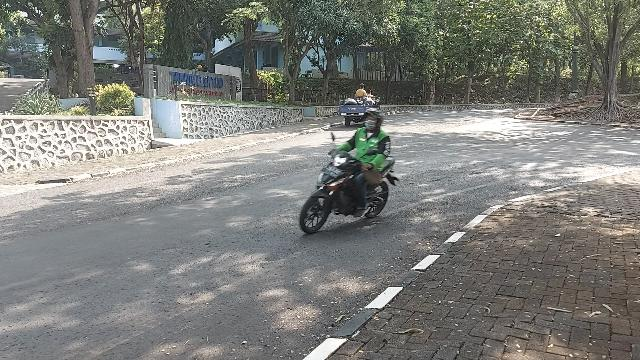helm: (365, 109, 384, 131)
motor: (300, 133, 400, 236)
